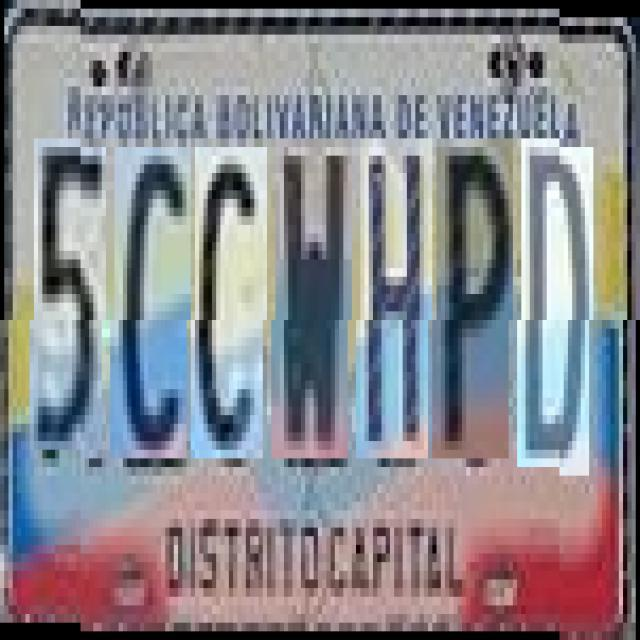5: (34, 146, 106, 458)
C: (114, 146, 191, 458), (195, 146, 267, 458)
D: (522, 138, 594, 467)
H: (360, 138, 432, 458)
P: (436, 138, 513, 458)
W: (275, 138, 352, 458)
